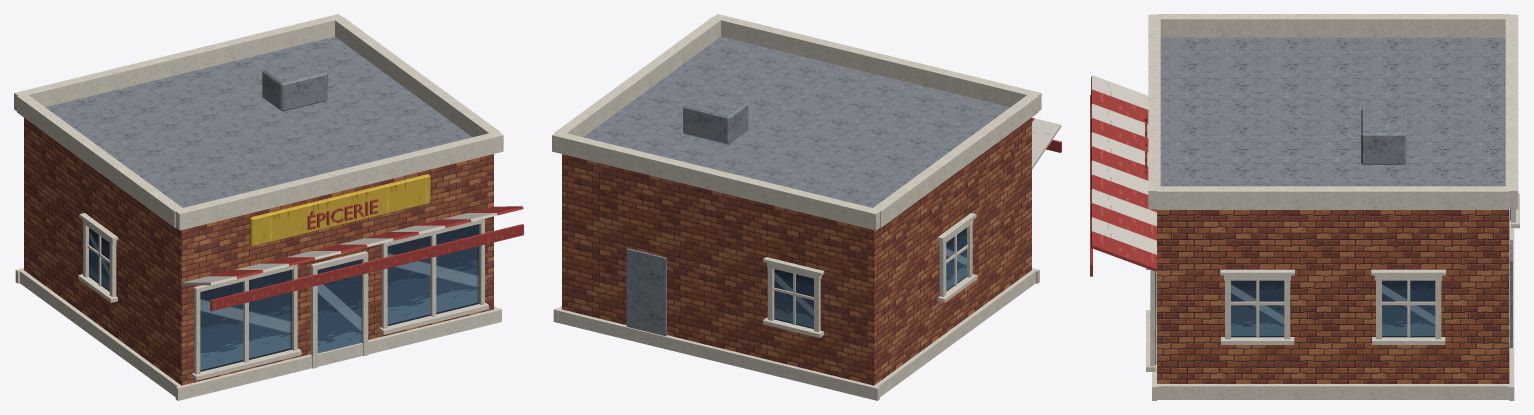
Rendered from corner_shop.glb.
The picture shows the model from 3 angles, left to right: view 1: azimuth 30°, elevation 25°; view 2: azimuth 150°, elevation 25°; view 3: azimuth 270°, elevation 25°; orthographic projection. The views are drawn at different scales.
Parts seen in each view (by area): view 1: Shop; view 2: Shop; view 3: Shop.
Boxes of the visible parts, bbox=[...] form: Shop: bbox=[14, 14, 523, 400]; Shop: bbox=[552, 14, 1061, 400]; Shop: bbox=[1090, 14, 1519, 400].
Size of the model in its own units: 8.42 by 4.9 by 8.54.
Materials: 4 (4 with a texture image).
